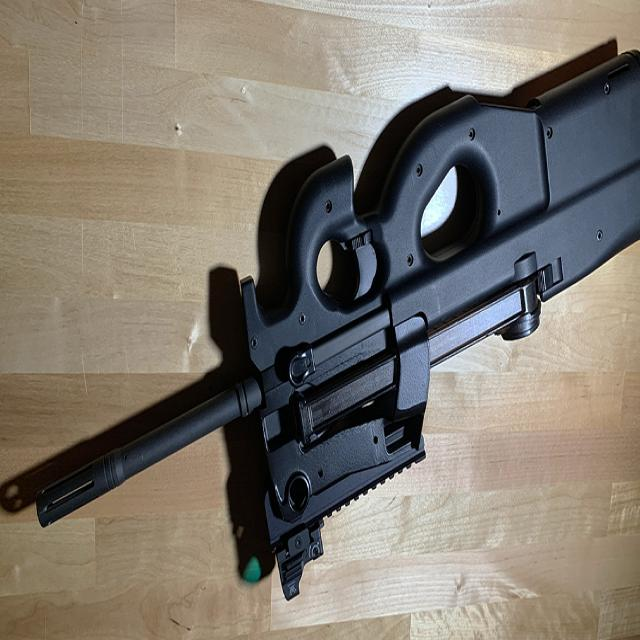Gun: (4, 22, 640, 576)
